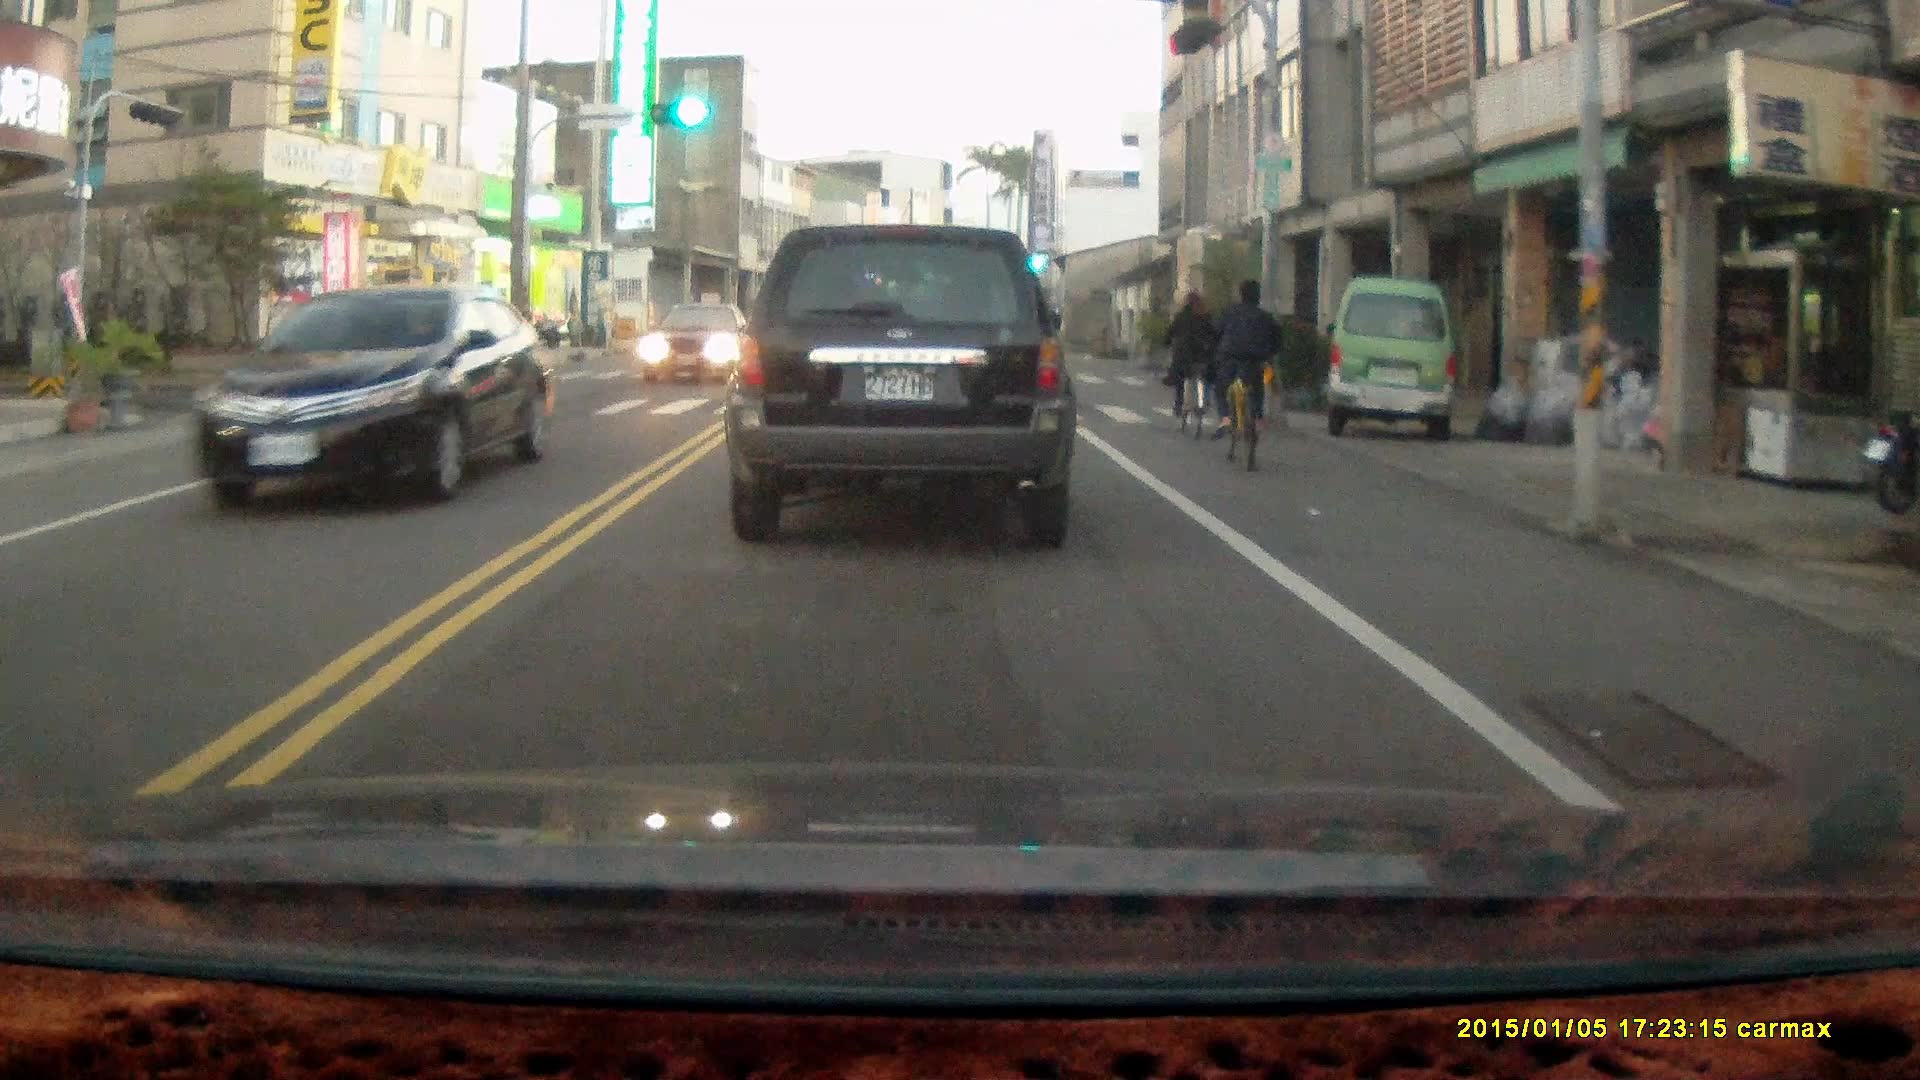rider: (1208, 274, 1283, 474), (1160, 285, 1220, 444)
vehicle: (729, 221, 1083, 545), (192, 282, 564, 515), (1321, 277, 1465, 446), (639, 303, 763, 390)
